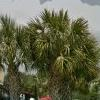Palm tree: (23, 14, 95, 90)
